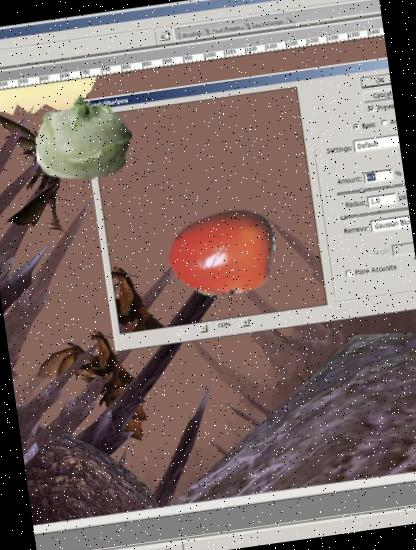Beetroot: (154, 208, 264, 318)
Kaki: (161, 193, 283, 315)
Kohlrabi: (30, 83, 138, 191)
